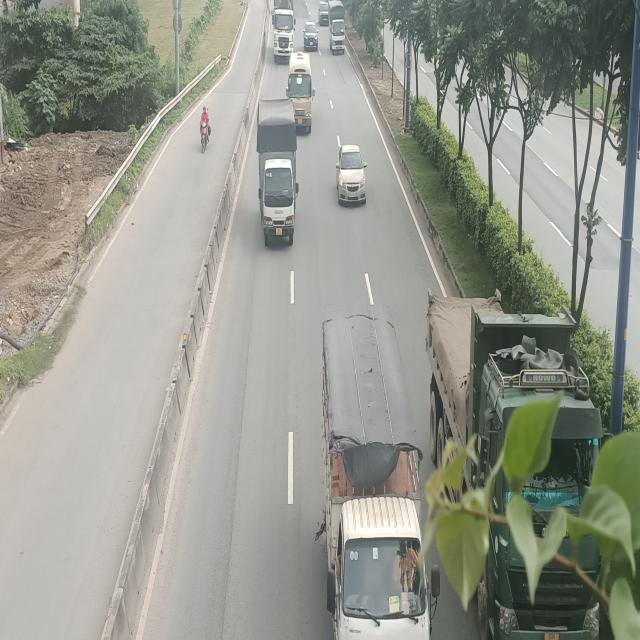car: (337, 145, 368, 208), (303, 21, 318, 49)
coach: (286, 52, 316, 131)
container: (425, 286, 602, 640)
truck: (321, 316, 439, 640), (257, 96, 298, 246), (272, 0, 296, 62), (329, 0, 345, 51)
